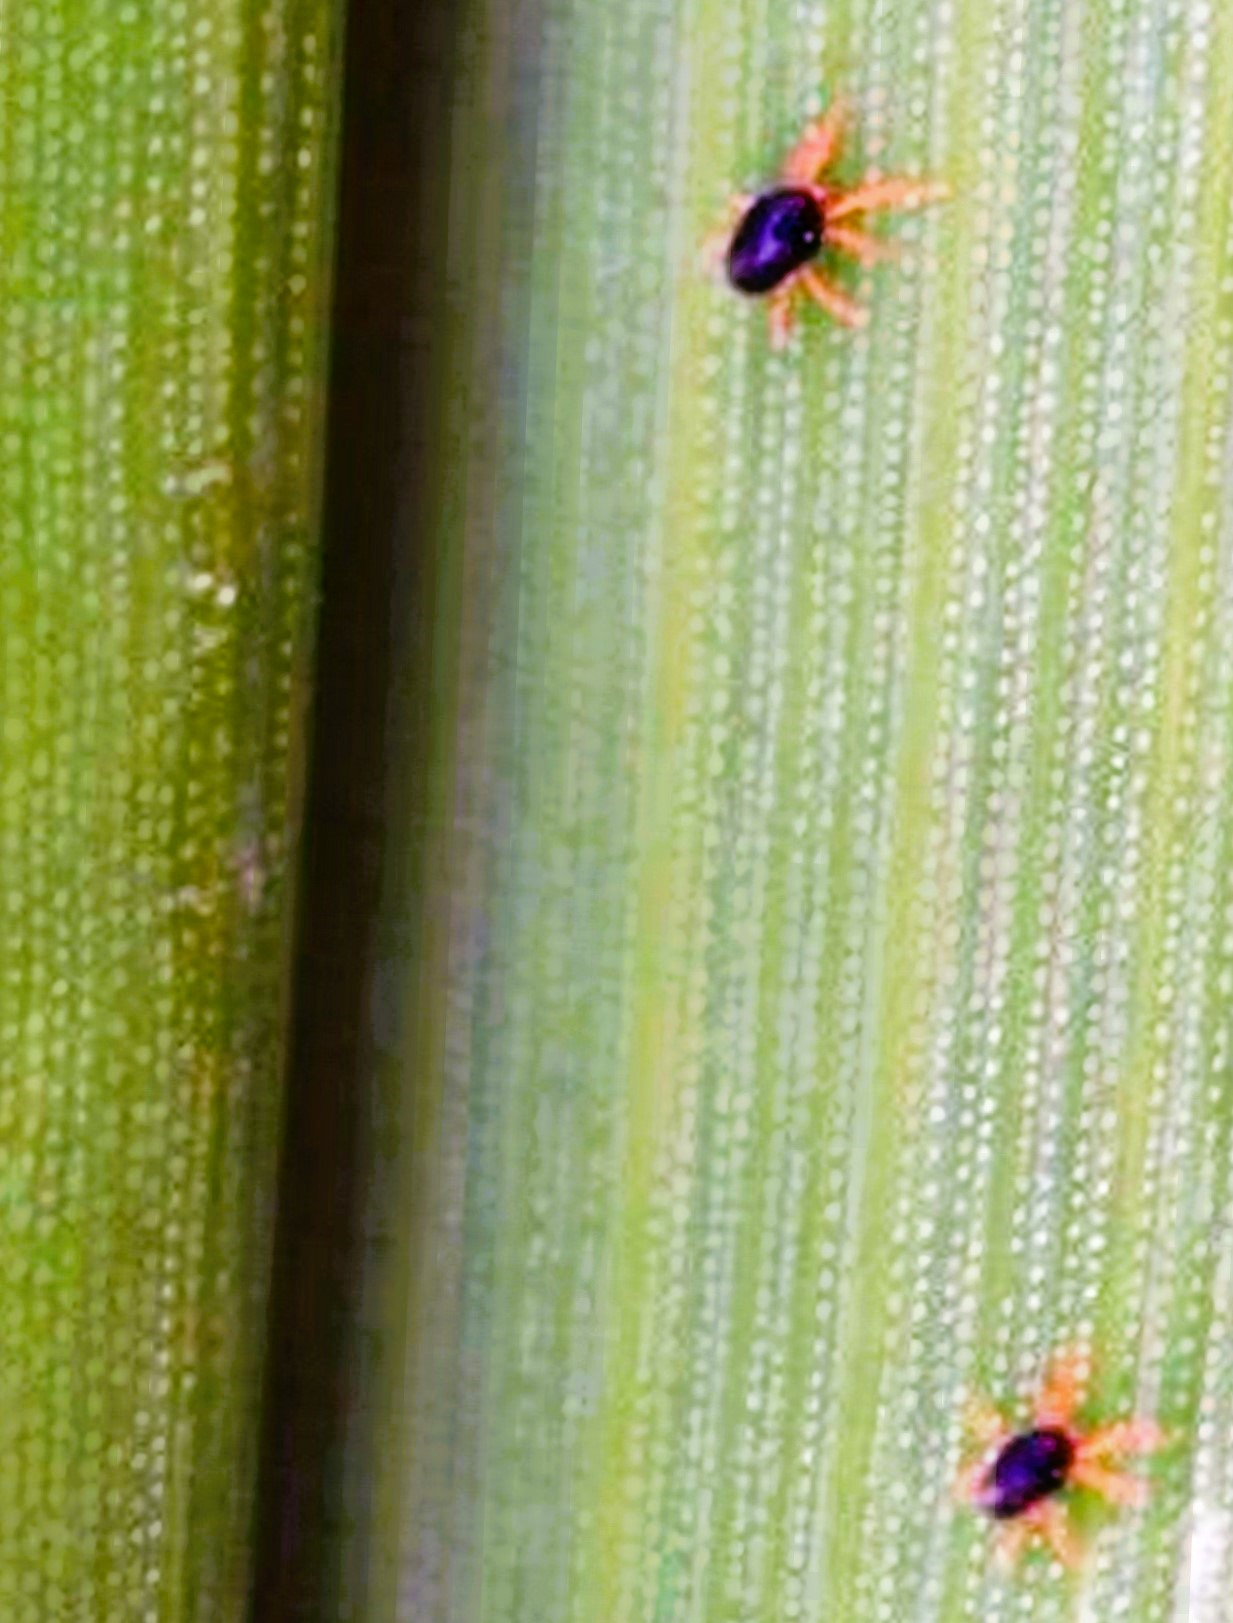Wheat Red Spider: (684, 84, 967, 377)
